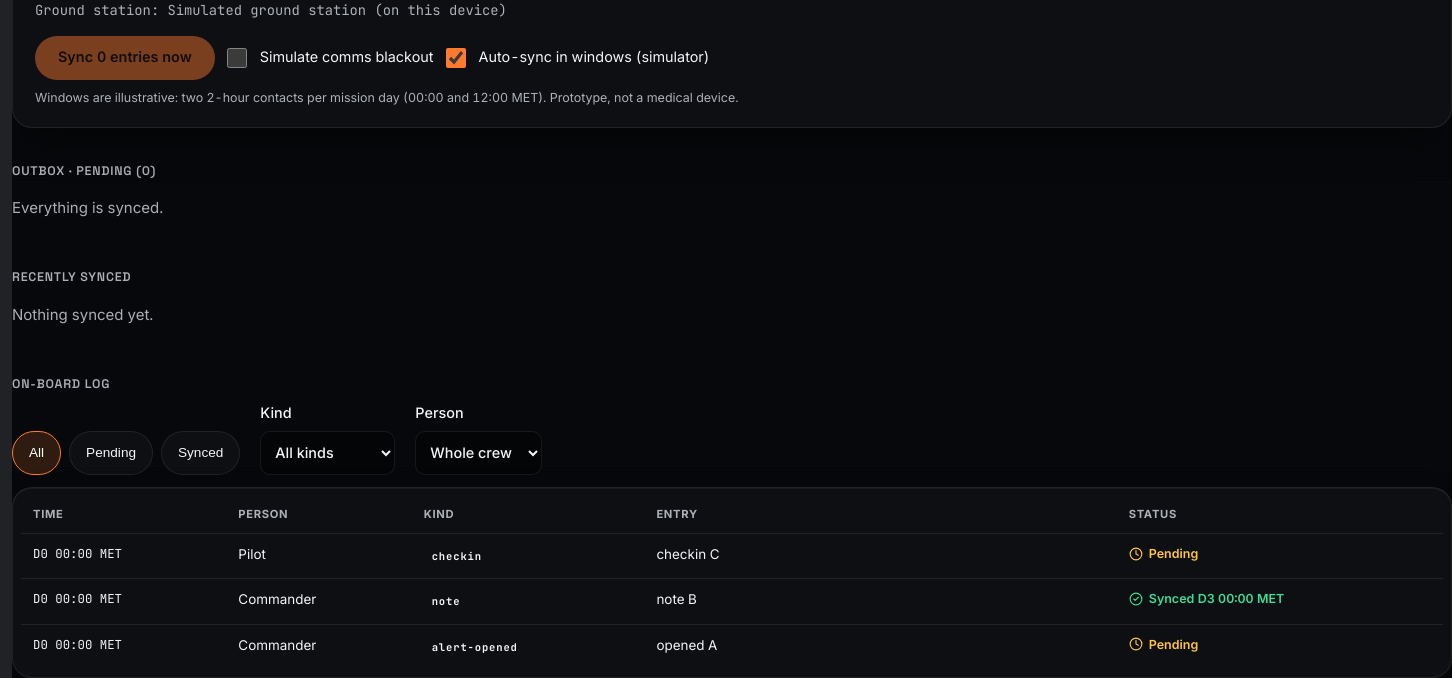
Test: filters the on-board log by state, kind and person
(page scrolled)
expect the number of rows is 4: met, box [21,496,1443,534]; [21,534,1443,579]; [21,579,1443,624]; [21,624,1443,669]
Click the button "Synced". click: (201,453)
box: [161,431,240,475]
(page scrolled)
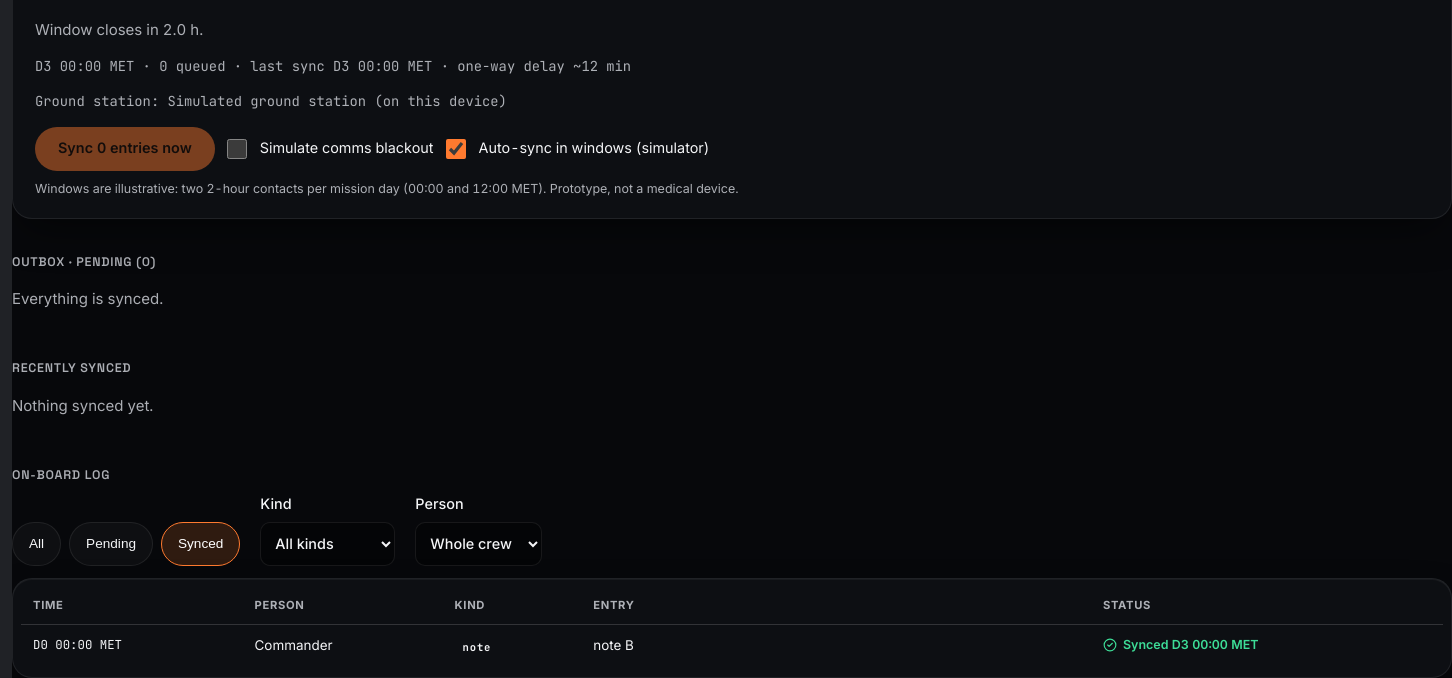
expect the text "note B" is shown: met, box [581,625,1091,670]
expect the text "opened A" is gone: met
Click the button "All". click: (37,544)
box: [12,522,61,566]
(page scrolled)
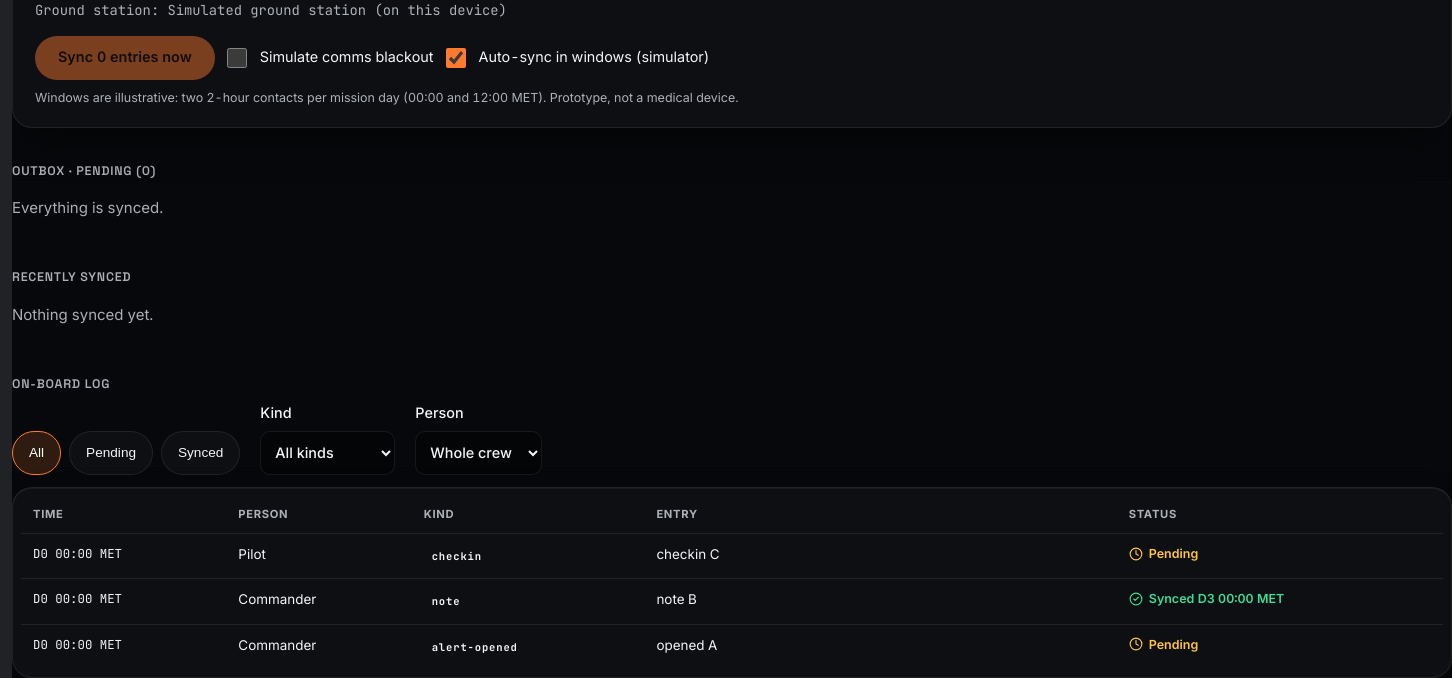
Select "Pilot" in the dropdown labelled "Person". click: (479,453)
box: [415,431,542,475]
(page scrolled)
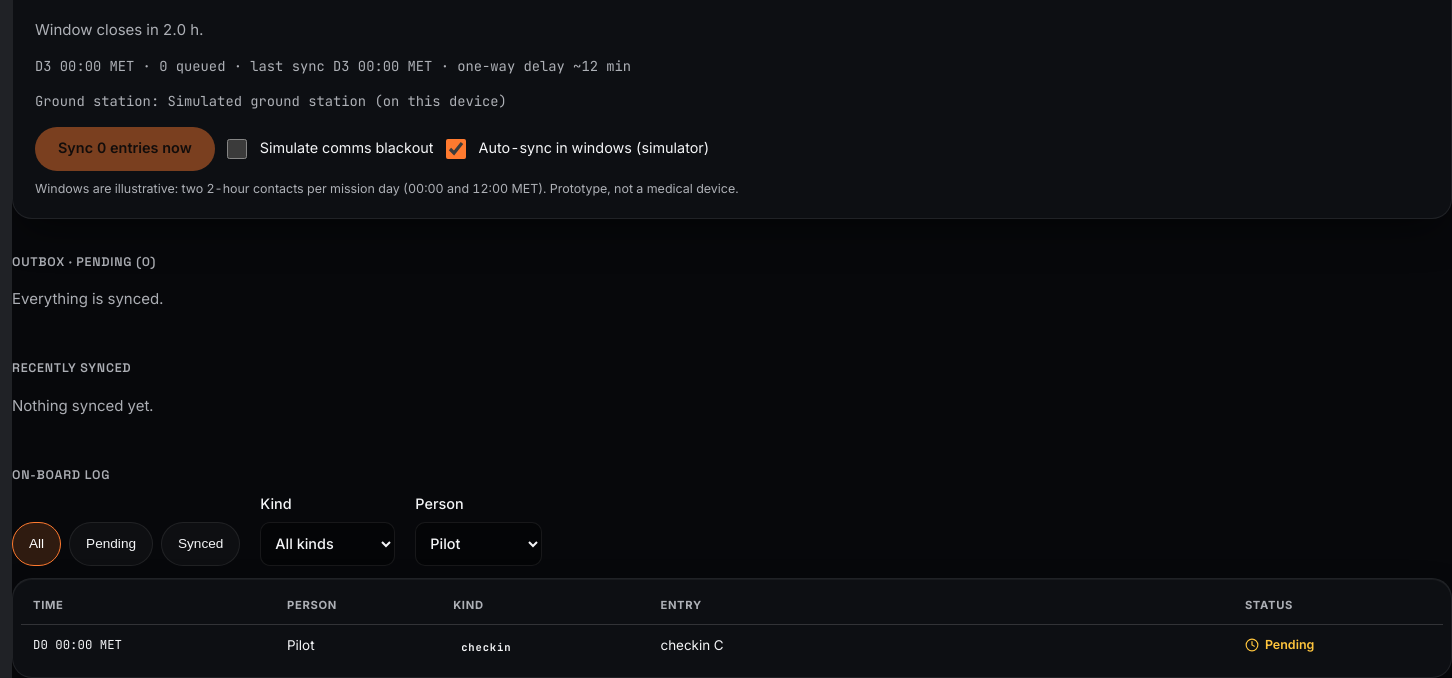
expect the number of rows is 2: met, box [21,587,1443,625]; [21,625,1443,670]
Select "Whole crew" in the dropdown labelled "Person". click: (479,544)
box: [415,522,542,566]
(page scrolled)
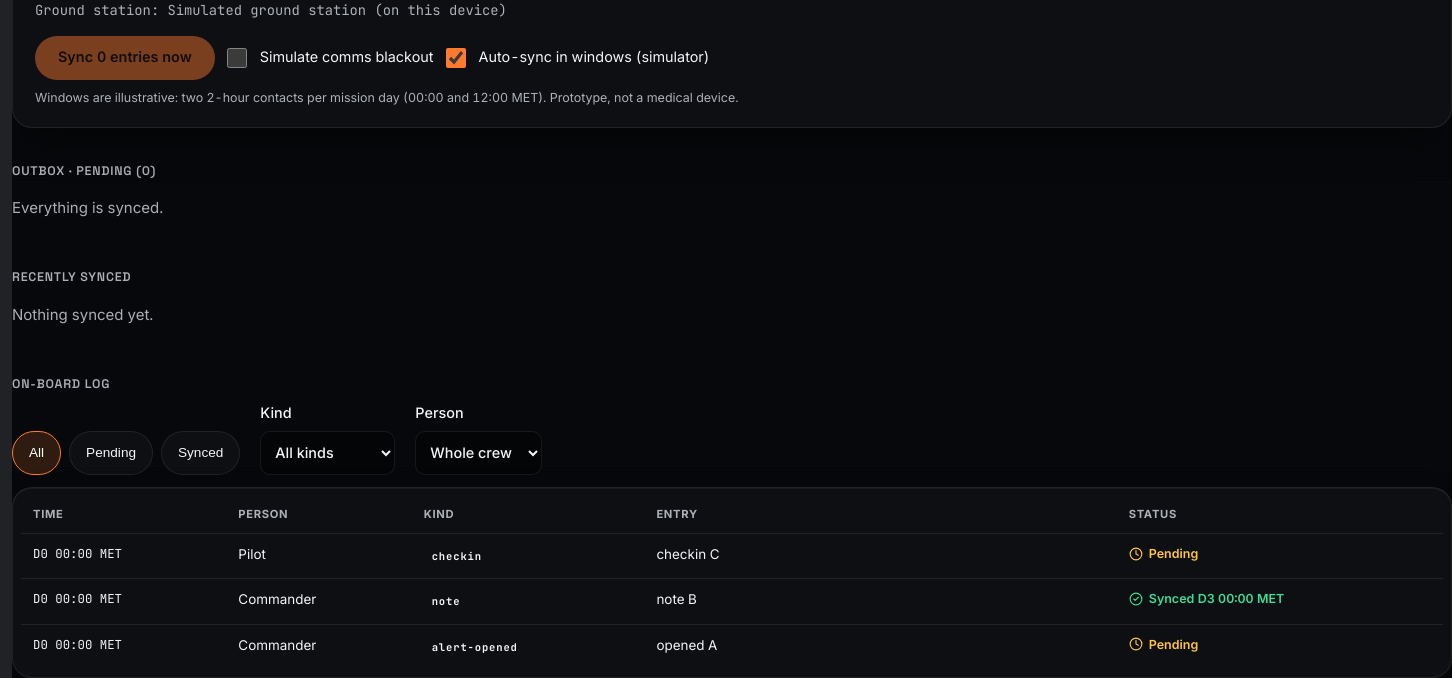
Select "note" in the dropdown labelled "Kind". click: (328,453)
box: [260,431,395,475]
(page scrolled)
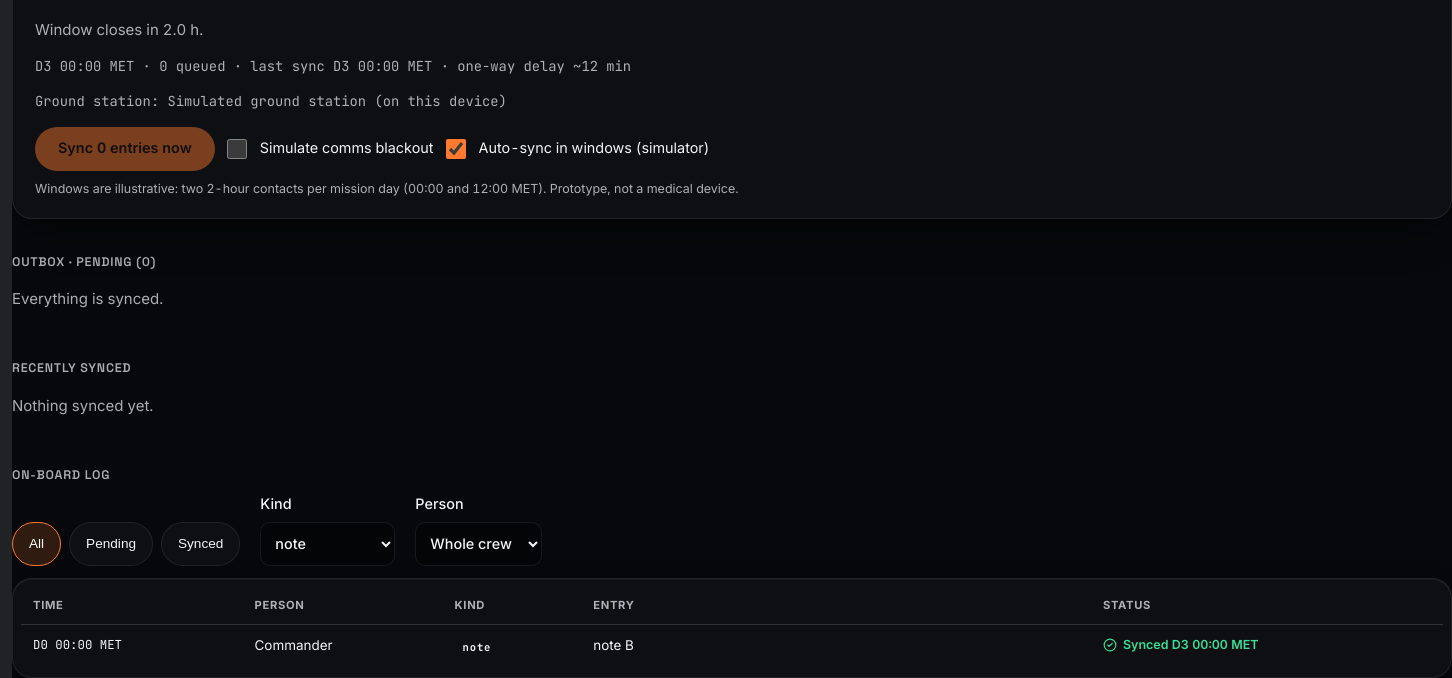
expect the number of rows is 2: met, box [21,587,1443,625]; [21,625,1443,670]
